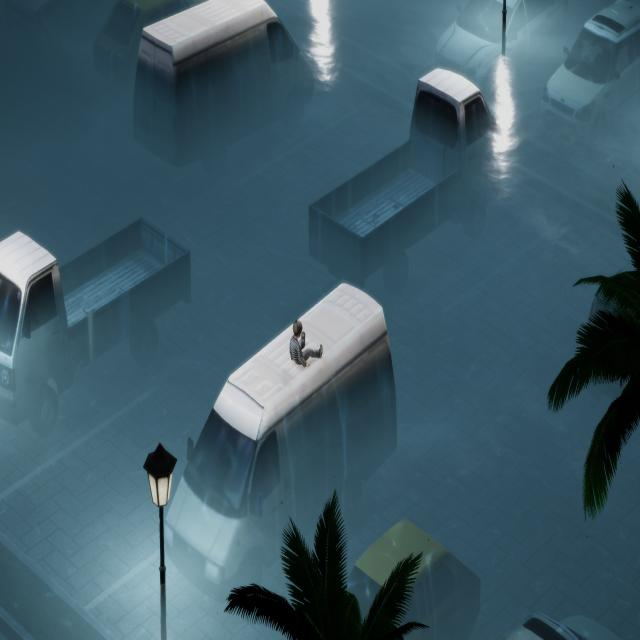Human: (285, 314, 327, 370)
